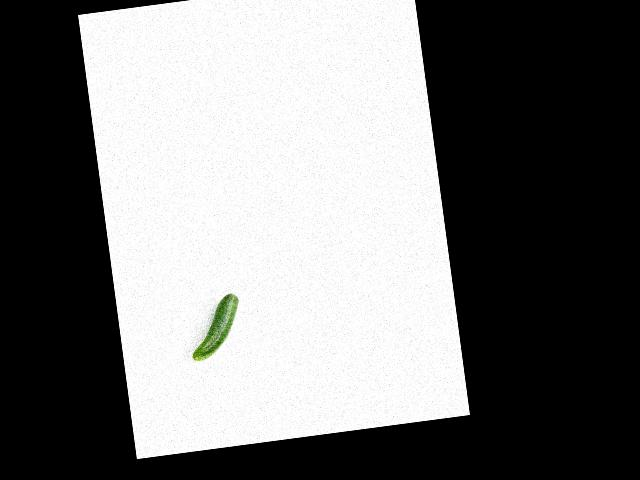cucumber: (184, 292, 245, 361)
